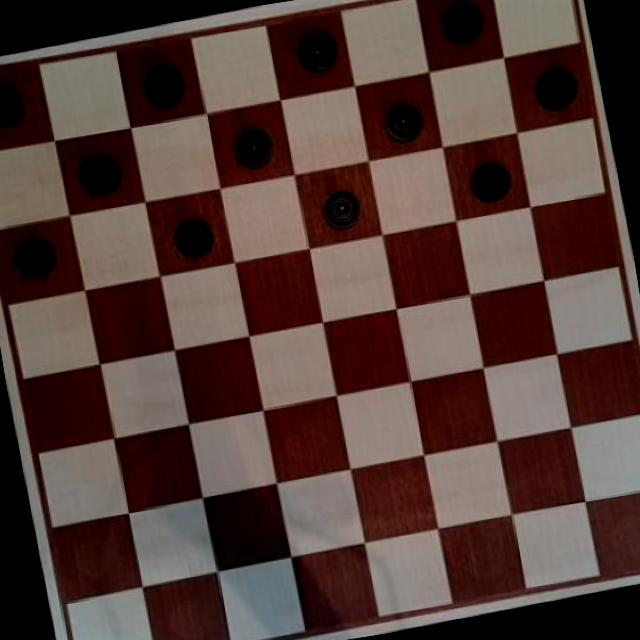BOARD: (0, 0, 640, 640)
black: (522, 56, 586, 116), (4, 230, 66, 290), (164, 203, 224, 265), (369, 87, 426, 151), (134, 51, 192, 113), (460, 151, 520, 209), (69, 146, 130, 201), (284, 20, 343, 76), (312, 181, 367, 235), (435, 0, 491, 52), (0, 70, 32, 135), (230, 122, 274, 168)
